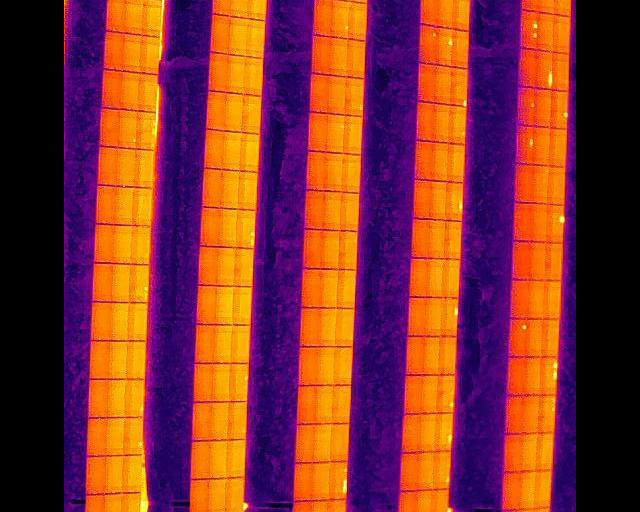Cell: (123, 416, 143, 455), (345, 77, 364, 116), (119, 109, 138, 148), (235, 247, 254, 286), (509, 317, 527, 357), (517, 124, 535, 164), (327, 113, 345, 152), (125, 378, 143, 417), (229, 401, 247, 440), (517, 86, 535, 125), (420, 24, 437, 64), (441, 296, 457, 336), (332, 0, 349, 37), (547, 204, 564, 241), (438, 27, 454, 66), (451, 67, 467, 106), (434, 450, 450, 487), (552, 90, 568, 127), (451, 106, 466, 144), (328, 498, 346, 512)
Cell-Multi: (540, 354, 558, 394), (137, 110, 155, 149), (230, 362, 248, 401), (130, 263, 148, 301), (237, 209, 255, 247), (521, 9, 538, 49), (438, 373, 454, 412), (539, 394, 555, 431)
No-Anomaly: (206, 90, 228, 130), (113, 224, 134, 263), (224, 92, 245, 131), (308, 111, 328, 151), (196, 323, 216, 363), (239, 132, 260, 170), (89, 377, 109, 416), (114, 185, 134, 224), (128, 301, 148, 340), (130, 224, 150, 263), (132, 185, 152, 224), (197, 285, 217, 324), (227, 53, 247, 92), (335, 307, 355, 345), (90, 338, 109, 378), (107, 378, 127, 416), (109, 339, 128, 379), (135, 149, 155, 187), (138, 72, 158, 110), (192, 440, 212, 478), (203, 167, 222, 207), (208, 53, 228, 91), (216, 285, 235, 325), (223, 131, 243, 169), (228, 17, 248, 55), (242, 94, 262, 132), (244, 55, 264, 93), (294, 461, 314, 499), (96, 184, 115, 224), (100, 108, 120, 146), (102, 69, 122, 107), (321, 190, 340, 229), (330, 421, 349, 460), (333, 345, 352, 384), (338, 230, 357, 269), (344, 114, 363, 153), (88, 417, 107, 456), (91, 299, 110, 338), (123, 453, 142, 492), (123, 33, 142, 72), (127, 340, 146, 379), (199, 245, 218, 284), (202, 206, 221, 245), (213, 362, 232, 401), (232, 323, 251, 362), (234, 286, 253, 325), (502, 470, 521, 509), (504, 393, 523, 432), (510, 279, 529, 318), (527, 279, 546, 318), (417, 100, 435, 141), (419, 62, 437, 103), (316, 346, 335, 384), (117, 147, 136, 185), (204, 130, 223, 168), (211, 14, 230, 52), (239, 171, 258, 209), (247, 18, 266, 56), (294, 423, 313, 461), (99, 146, 118, 184), (104, 30, 123, 68), (313, 422, 331, 462), (320, 229, 338, 269), (325, 151, 343, 191), (342, 152, 360, 192), (212, 400, 230, 440), (94, 262, 112, 302), (340, 192, 359, 229), (87, 456, 106, 493), (141, 35, 160, 72), (314, 383, 332, 422), (347, 39, 365, 78), (400, 451, 418, 490), (414, 179, 432, 218), (110, 301, 128, 340), (195, 362, 213, 401), (209, 439, 227, 478), (215, 324, 233, 363), (218, 245, 236, 284), (228, 438, 246, 477), (301, 307, 319, 346), (303, 229, 321, 268), (208, 477, 228, 512), (310, 72, 327, 113), (320, 268, 338, 306), (327, 75, 345, 113), (332, 384, 350, 422), (338, 269, 356, 307), (349, 1, 367, 39), (403, 413, 421, 451), (105, 454, 123, 492), (107, 417, 125, 455), (121, 71, 139, 109), (219, 208, 237, 246), (222, 170, 240, 208), (296, 385, 314, 423), (95, 224, 113, 262), (516, 163, 534, 201), (547, 165, 565, 203), (307, 150, 324, 190), (330, 36, 347, 76), (413, 217, 430, 257), (305, 189, 322, 229), (513, 239, 530, 279), (549, 126, 566, 166), (503, 433, 521, 470), (506, 357, 524, 394), (313, 0, 332, 35), (406, 374, 423, 413), (416, 140, 433, 179), (424, 335, 441, 374), (428, 258, 445, 297), (303, 268, 320, 307), (448, 143, 465, 182), (523, 393, 540, 432), (552, 51, 569, 90), (554, 14, 570, 55), (144, 0, 162, 36), (225, 476, 243, 512), (312, 35, 329, 73), (408, 336, 425, 374), (113, 263, 130, 301), (191, 478, 210, 512), (195, 401, 212, 439), (299, 346, 316, 384), (516, 201, 533, 239), (521, 431, 538, 469), (526, 318, 543, 356), (542, 318, 559, 356), (546, 240, 563, 278), (426, 295, 442, 335), (430, 218, 446, 258), (436, 64, 452, 104), (521, 469, 537, 509), (125, 0, 144, 33), (410, 297, 426, 336), (411, 258, 427, 297), (418, 450, 434, 489), (422, 373, 438, 412), (446, 220, 462, 259), (453, 29, 469, 68), (525, 356, 541, 395), (529, 240, 545, 279), (534, 164, 550, 203), (534, 125, 550, 164), (545, 279, 561, 318), (435, 140, 450, 181), (313, 461, 329, 499), (440, 335, 456, 373), (533, 202, 549, 240), (538, 13, 554, 51), (535, 88, 551, 125), (320, 306, 335, 345), (436, 103, 451, 142), (519, 48, 534, 87), (538, 431, 553, 469), (107, 0, 125, 31), (444, 259, 459, 296), (537, 469, 552, 506), (422, 412, 436, 450), (432, 181, 446, 219), (421, 0, 439, 26), (454, 0, 470, 29), (439, 0, 454, 28), (85, 492, 105, 512), (122, 491, 141, 512), (104, 491, 123, 512), (398, 490, 416, 512), (433, 487, 448, 512), (417, 489, 433, 512), (248, 0, 267, 19), (230, 0, 248, 17), (213, 0, 232, 15), (293, 499, 313, 512), (555, 0, 571, 16), (312, 498, 329, 512), (538, 0, 555, 13), (522, 0, 539, 11)
Unclassified: (329, 460, 348, 498), (535, 50, 553, 88), (447, 182, 464, 221), (437, 412, 454, 450)
